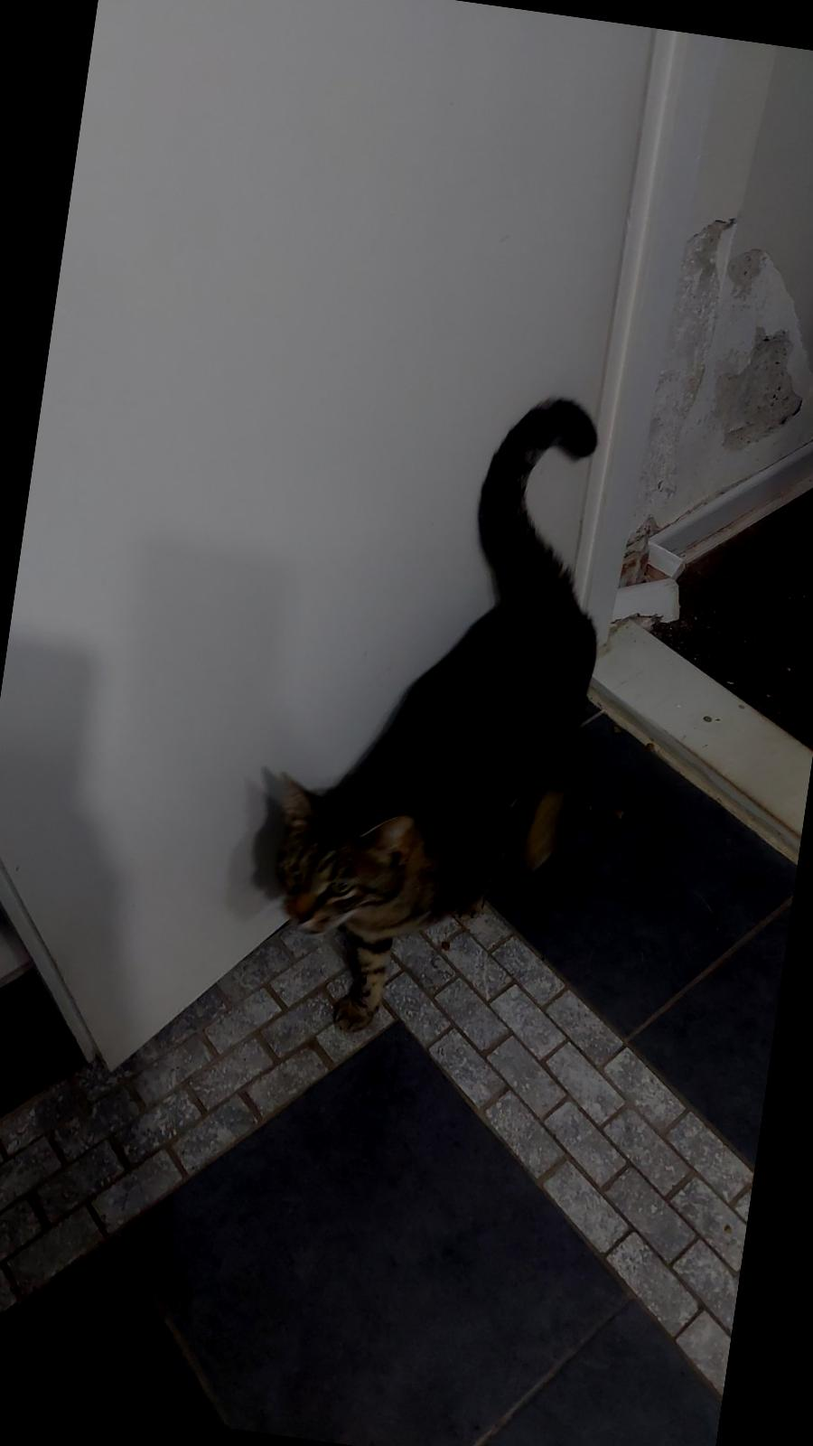macka: (234, 362, 636, 1060)
